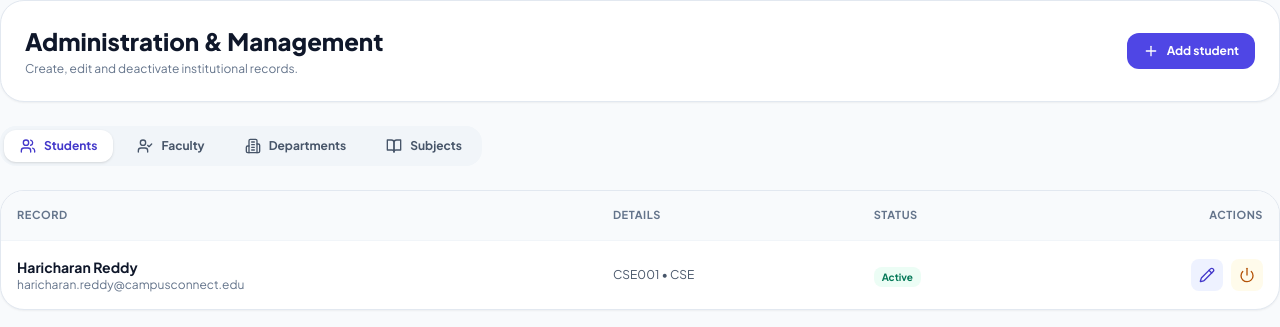
Test: CampusConnect admin management › switches between administration tabs and loads the correct endpoint
expect the text "Haricharan Reddy" is shown: met, box [17, 258, 138, 276]
What coordinates should you click on to do the following:
click the button "Faculty"
I would click on:
 (171, 146)
Its box is [122, 130, 221, 162].
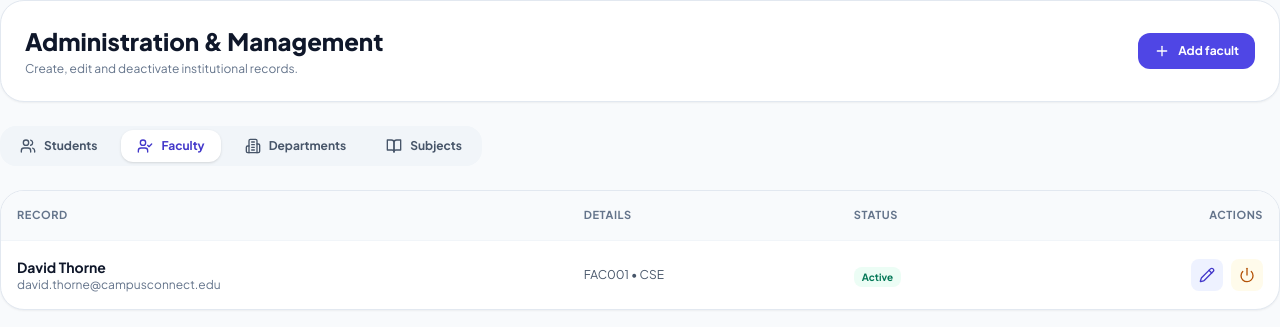
expect the text "David Thorne" is shown: met, box [17, 258, 106, 276]
What coordinates should you click on to do the following:
click the button "Departments"
I would click on:
 (295, 146)
Its box is [229, 130, 362, 162].
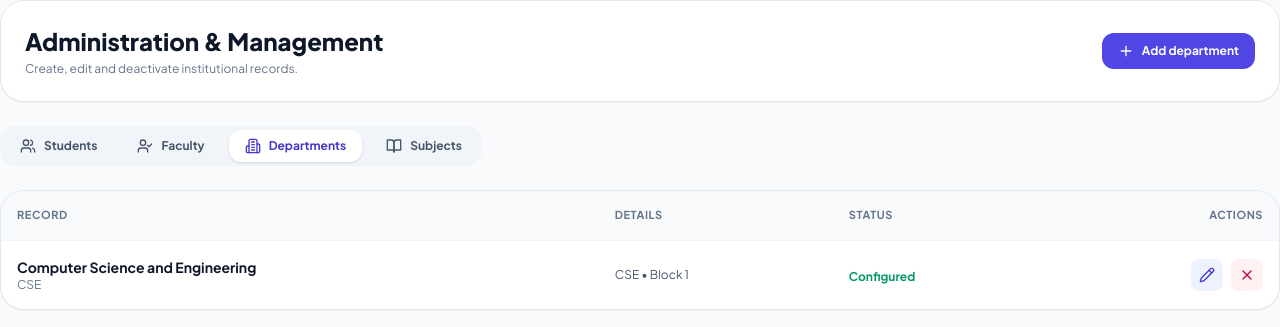
expect the text "Computer Science and Engineering" is shown: met, box [17, 258, 256, 276]
What coordinates should you click on to do the following:
click the button "Subjects"
I would click on:
 (424, 146)
Its box is [370, 130, 478, 162].
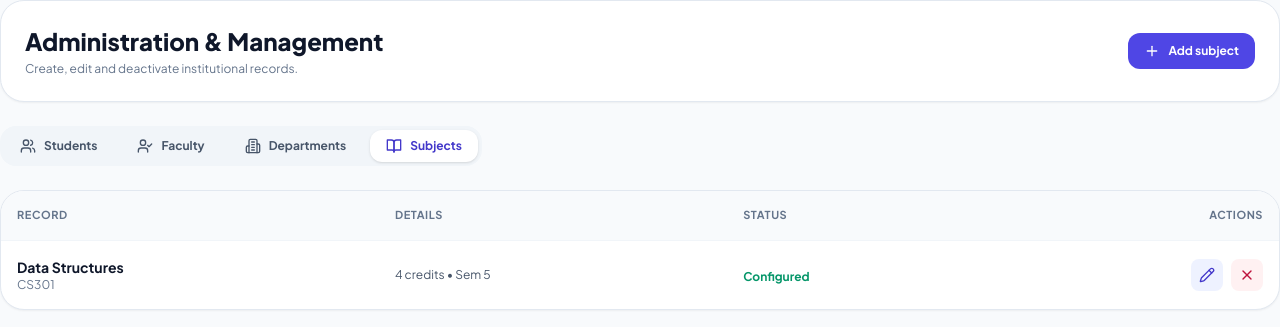
expect the text "Data Structures" is shown: met, box [17, 258, 124, 276]
